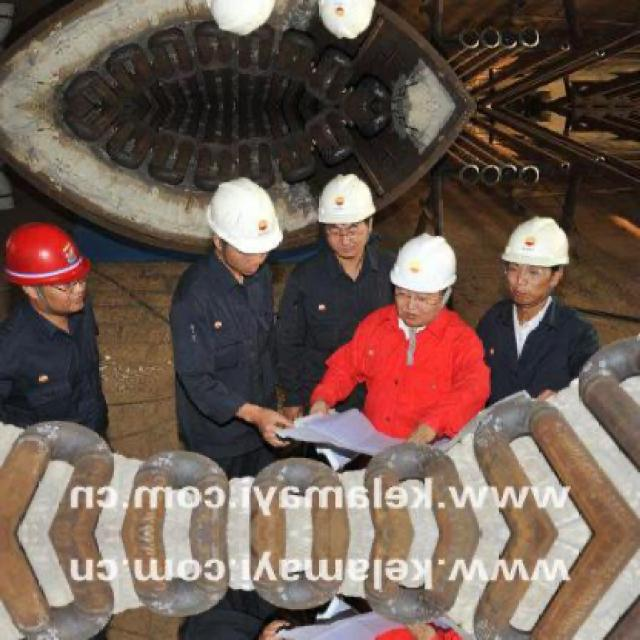helmet: (3, 218, 91, 316), (205, 176, 283, 279), (497, 212, 572, 306), (390, 237, 464, 324), (314, 168, 378, 264), (204, 0, 284, 39), (313, 0, 379, 46)
